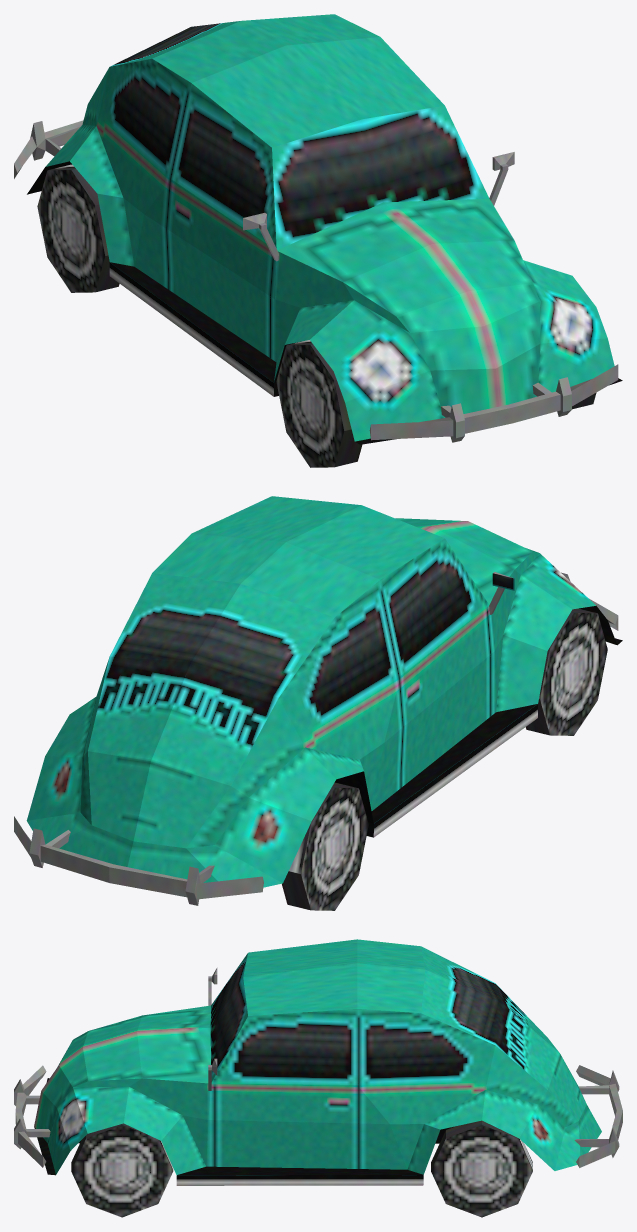
The model's file is petatuquesa.fbx.
The picture shows the model from 3 angles, top to bottom: view 1: azimuth 30°, elevation 25°; view 2: azimuth 150°, elevation 25°; view 3: azimuth 270°, elevation 25°; orthographic projection. The views are drawn at different scales.
Visible parts, largest first — view 1: compact_classic, wheel_FR, wheel_RR; view 2: compact_classic, wheel_RR, wheel_FR; view 3: compact_classic, wheel_RL, wheel_FL.
Boxes of the visible parts, bbox=[...] form: compact_classic: bbox=[14, 14, 622, 444]; wheel_FR: bbox=[276, 340, 362, 467]; wheel_RR: bbox=[37, 164, 119, 292]; compact_classic: bbox=[14, 496, 622, 905]; wheel_RR: bbox=[282, 782, 368, 910]; wheel_FR: bbox=[525, 608, 607, 735]; compact_classic: bbox=[14, 939, 622, 1185]; wheel_RL: bbox=[431, 1120, 532, 1217]; wheel_FL: bbox=[71, 1123, 173, 1217].
Size of the model in its own units: 158 by 153 by 406.
